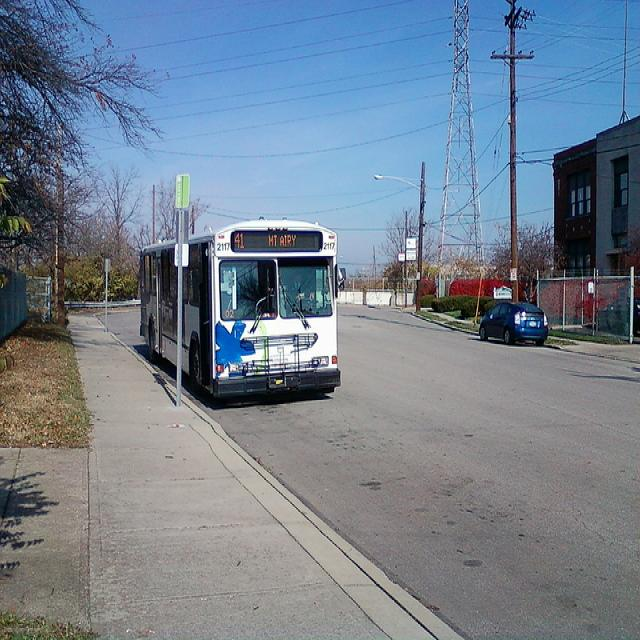Vehicle: (140, 221, 341, 404), (479, 303, 548, 346), (597, 298, 640, 334)
